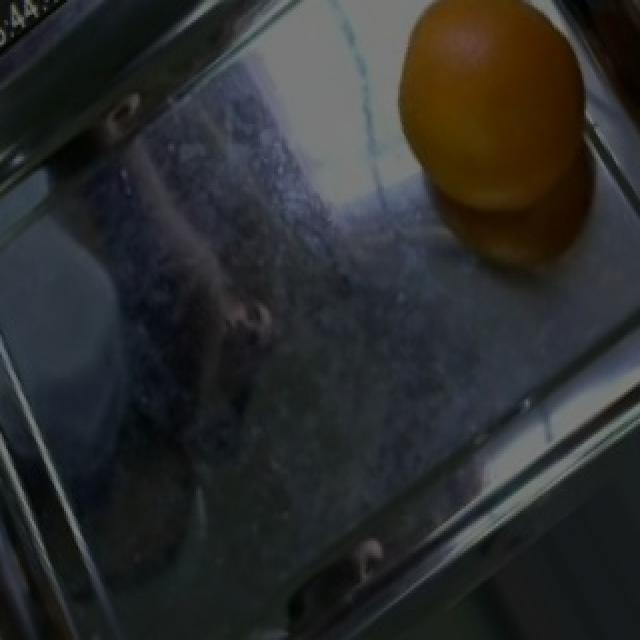Fruit: (366, 0, 608, 238)
